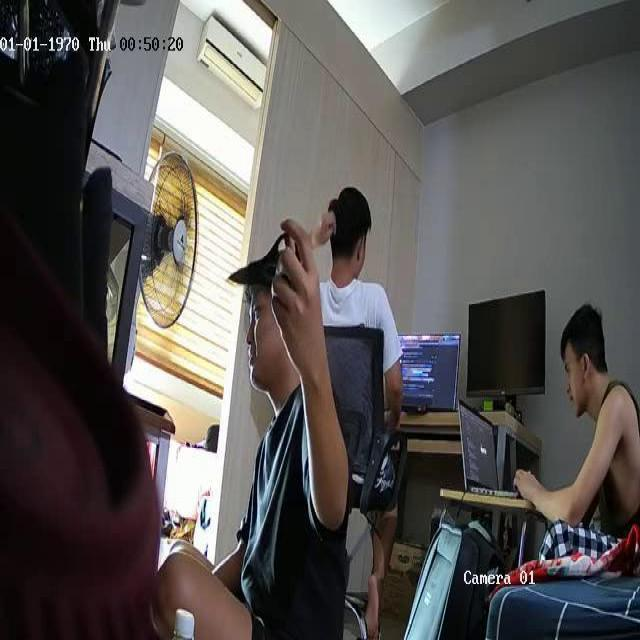scissor: (227, 232, 291, 289)
